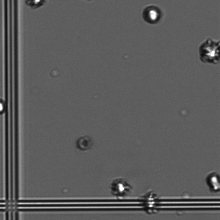Dead Cell: (76, 135, 93, 152)
Living Cell: (199, 38, 218, 64), (141, 4, 163, 26), (142, 191, 159, 214), (111, 177, 130, 196), (205, 171, 219, 192), (24, 1, 46, 8), (1, 97, 6, 117)
